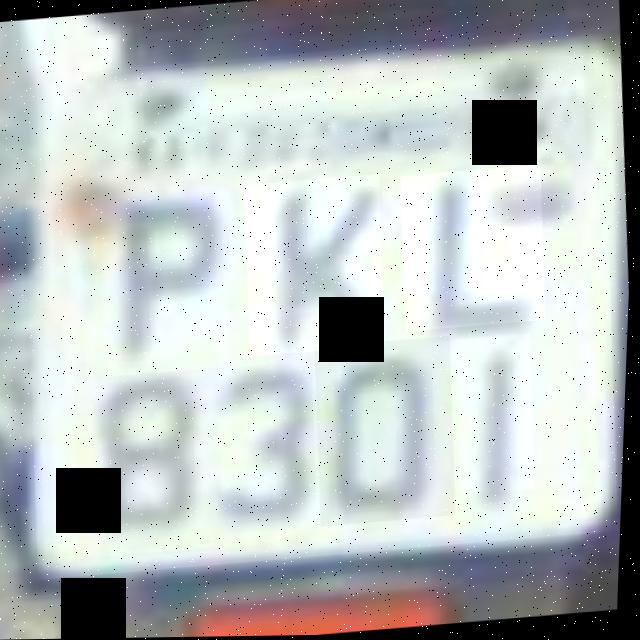0: (312, 337, 465, 528)
1: (452, 334, 543, 496)
3: (187, 350, 353, 538)
8: (70, 351, 234, 562)
J: (397, 166, 552, 332)
K: (240, 174, 392, 357)
P: (95, 187, 237, 377)
